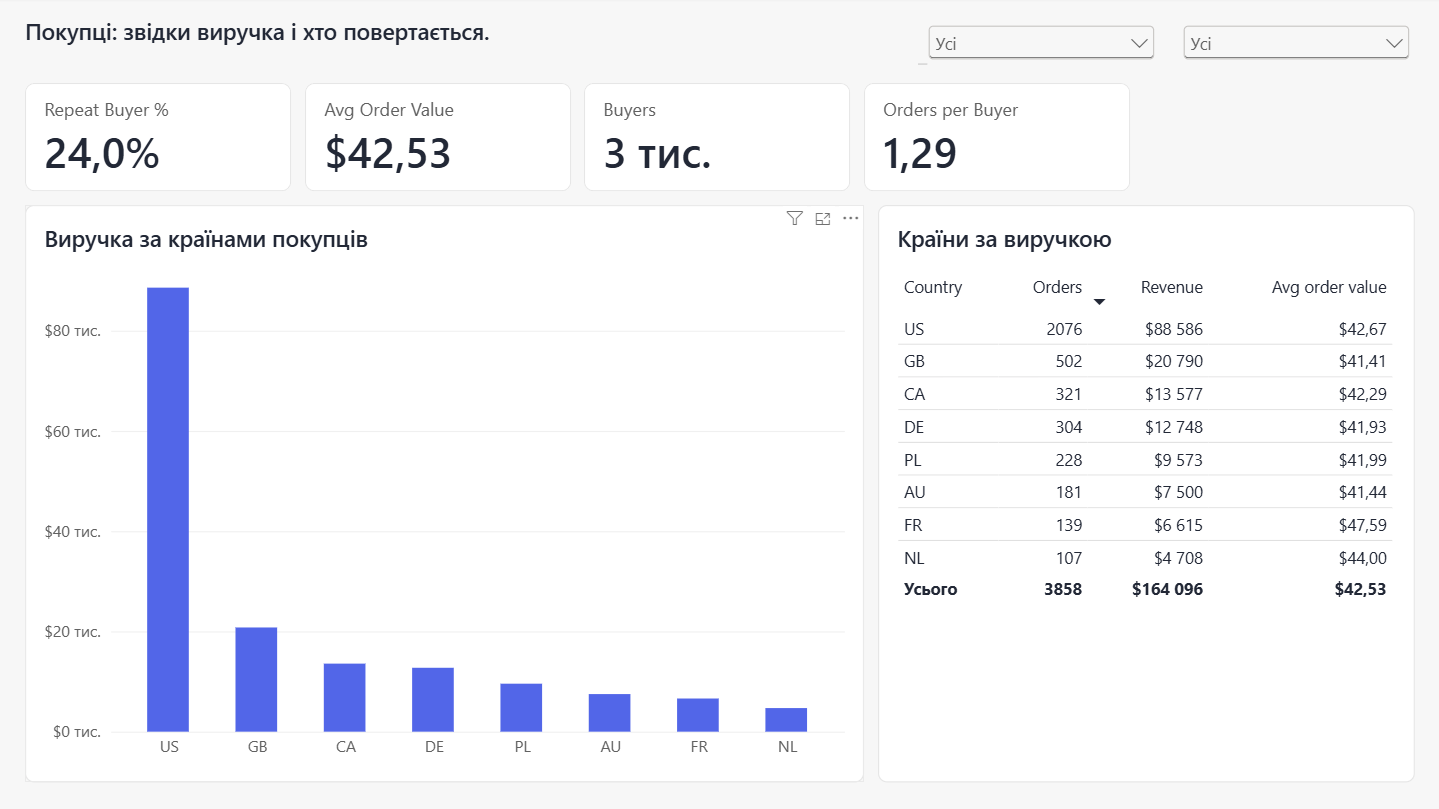

The dashboard page shown, as its layout file describes it:
{"tool":"powerbi","page":{"name":"Покупці","canvas":[1280,720],"ordinal":2},"visuals":[{"type":"textbox","title":"Покупці: звідки виручка і хто повертається.","box":[24,16,800,44],"z":0},{"type":"cardVisual","fields":{"Data":["Calendar.Repeat Buyer %"]},"box":[24,76,236,96],"z":1000},{"type":"cardVisual","fields":{"Data":["Calendar.Avg Order Value"]},"box":[272,76,236,96],"z":2000},{"type":"columnChart","title":"Виручка за країнами покупців","fields":{"Category":["Facts.buyer_country"],"Y":["Calendar.Revenue"]},"box":[24,184,744,512],"z":3000},{"type":"tableEx","title":"Країни за виручкою","fields":{"Values":["Facts.buyer_country","Calendar.Orders","Calendar.Revenue","Calendar.Avg Order Value"]},"box":[780,184,476,512],"z":4000},{"type":"cardVisual","fields":{"Data":["Calendar.Buyers"]},"box":[520,76.7,236,96],"z":4001},{"type":"cardVisual","fields":{"Data":["Calendar.Orders per Buyer"]},"box":[768,76.7,236,96],"z":4002},{"type":"slicer","fields":{"Values":["Calendar.Date"]},"box":[820,20,210,40],"z":4003},{"type":"slicer","fields":{"Values":["Facts.category"]},"box":[1046,20,210,40],"z":4004}]}

Visuals, with their boxes in screenshot pixels (x1, y1, x2, y2), scaled from the page's 1280x720 canvas onto the 1439x809 screenshot:
"Покупці: звідки виручка і хто повертається." textbox: [27, 18, 926, 67]
cardVisual - Calendar.Repeat Buyer %: [27, 85, 292, 193]
cardVisual - Calendar.Avg Order Value: [306, 85, 571, 193]
"Виручка за країнами покупців" columnChart: [27, 207, 863, 782]
"Країни за виручкою" tableEx: [877, 207, 1412, 782]
cardVisual - Calendar.Buyers: [585, 86, 850, 194]
cardVisual - Calendar.Orders per Buyer: [863, 86, 1129, 194]
slicer - Calendar.Date: [922, 22, 1158, 67]
slicer - Facts.category: [1176, 22, 1412, 67]
